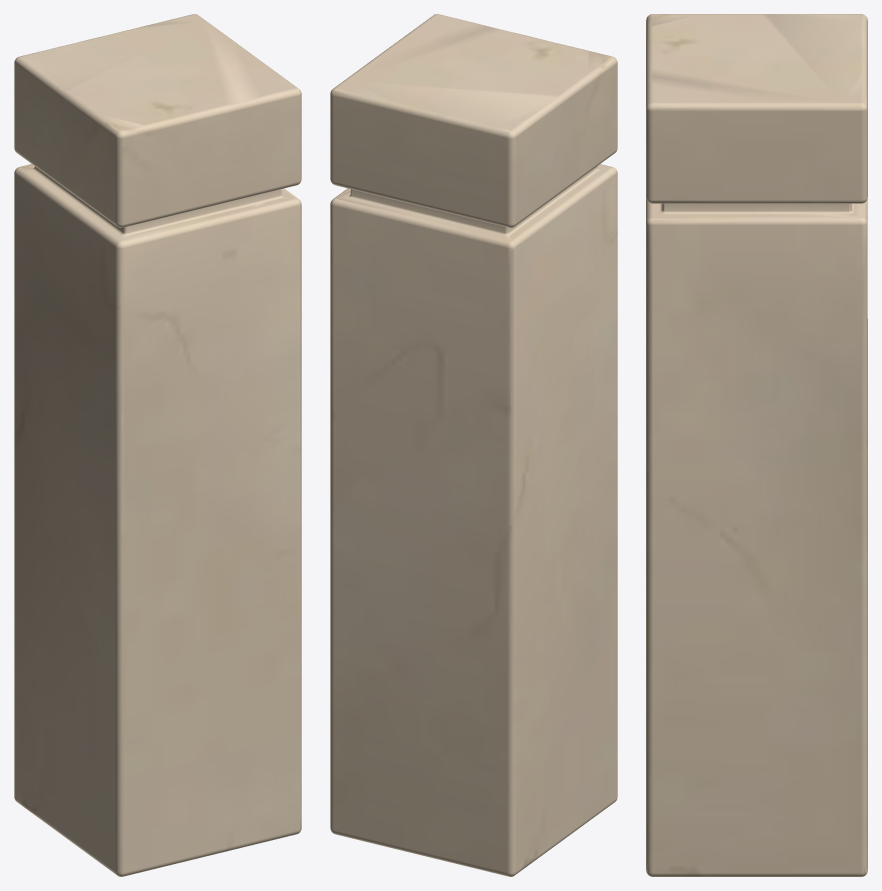
Rendered from kral_bily.glb.
The picture shows the model from 3 angles, left to right: view 1: azimuth 30°, elevation 25°; view 2: azimuth 150°, elevation 25°; view 3: azimuth 270°, elevation 25°; orthographic projection. The views are drawn at different scales.
Visible parts, largest first — view 1: kral_bily; view 2: kral_bily; view 3: kral_bily.
Part boxes in pixels (x1,y1,x2,y2): kral_bily: (14,14,301,876); kral_bily: (330,14,617,876); kral_bily: (646,14,867,876).
Size of the model in its own units: 0.024 by 0.0924 by 0.024.
Materials: 1 (1 with a texture image).
